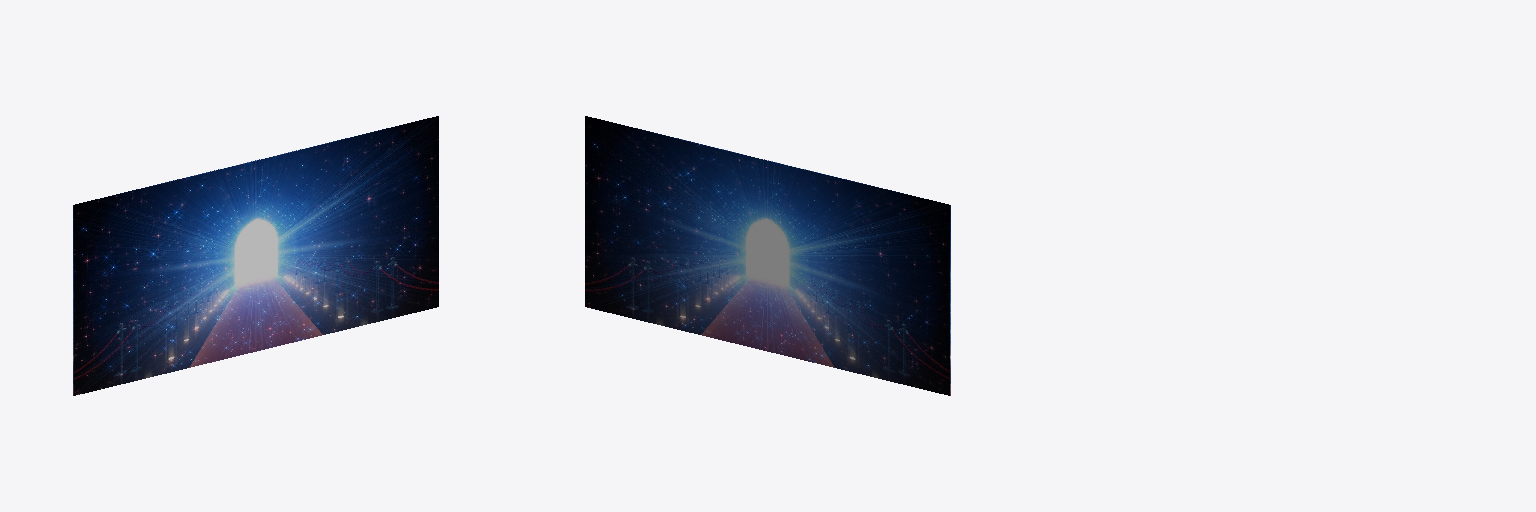
3 views of the same model, side by side, from view 1: azimuth 30°, elevation 25°; view 2: azimuth 150°, elevation 25°; view 3: azimuth 270°, elevation 25° (orthographic).
Size of the model in its own units: 100 by 50 by 0.2.
Materials: 1 (1 with a texture image).